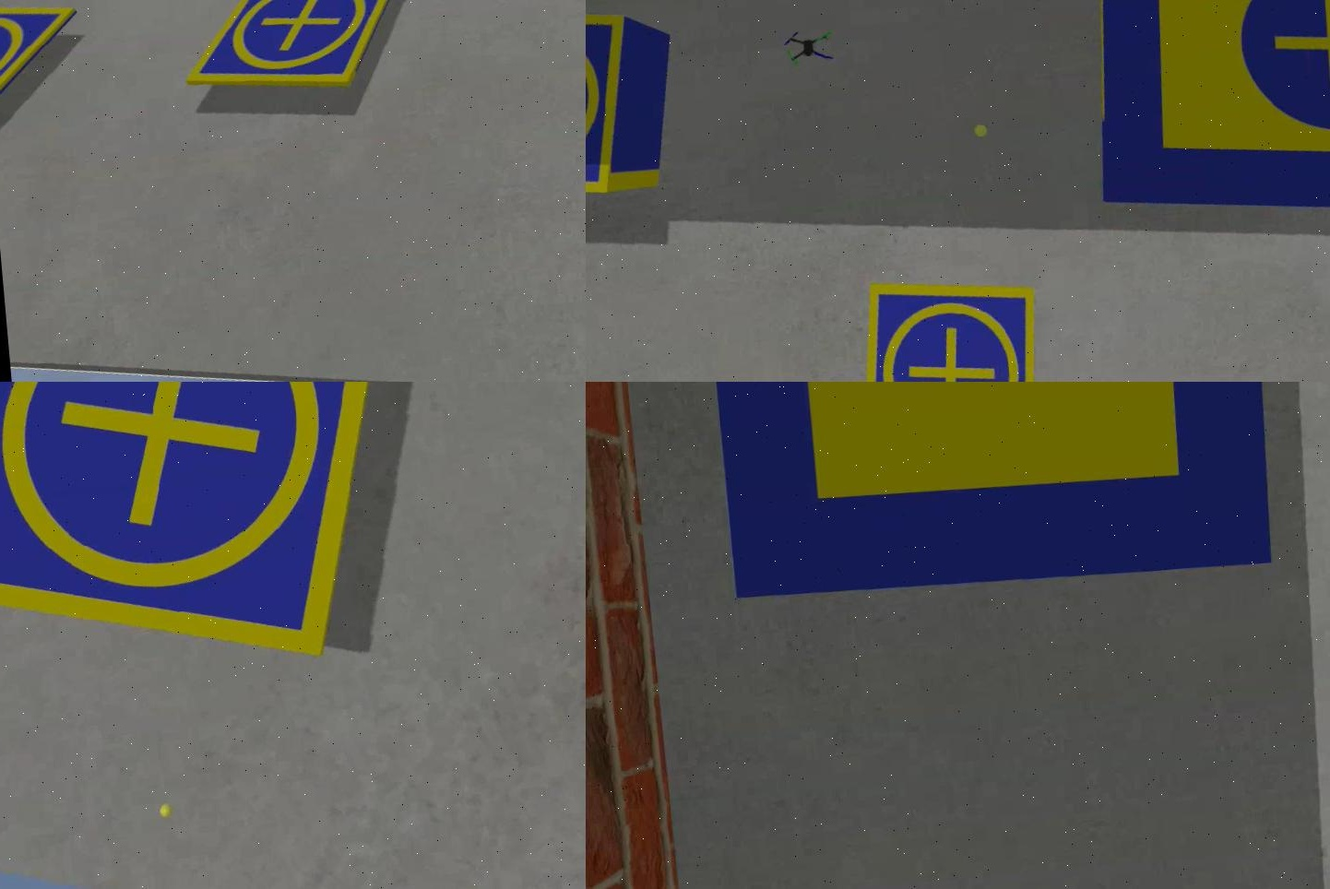large_base: (707, 382, 1281, 616), (1071, 1, 1328, 260)
small_base: (0, 382, 426, 695), (174, 1, 406, 99), (844, 275, 1050, 382), (584, 1, 643, 209), (0, 1, 86, 105)
